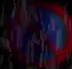No Stopping: (5, 2, 71, 65)
